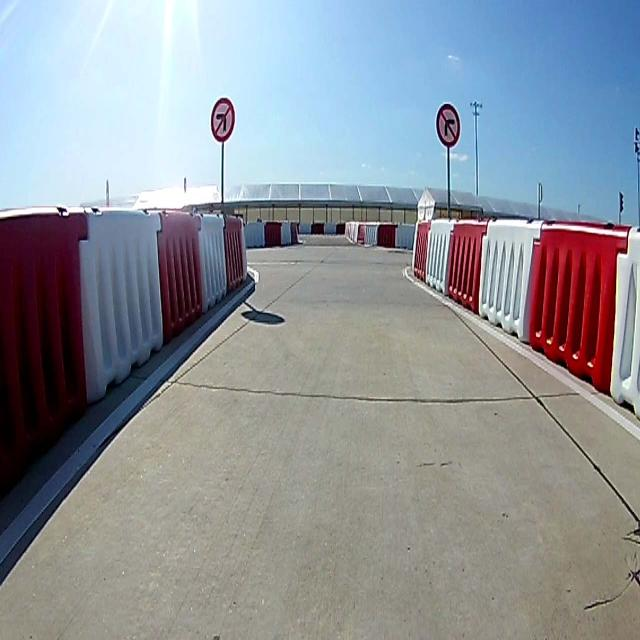sagadonulmez: (434, 101, 460, 150)
soladonulmez: (211, 96, 235, 142)
